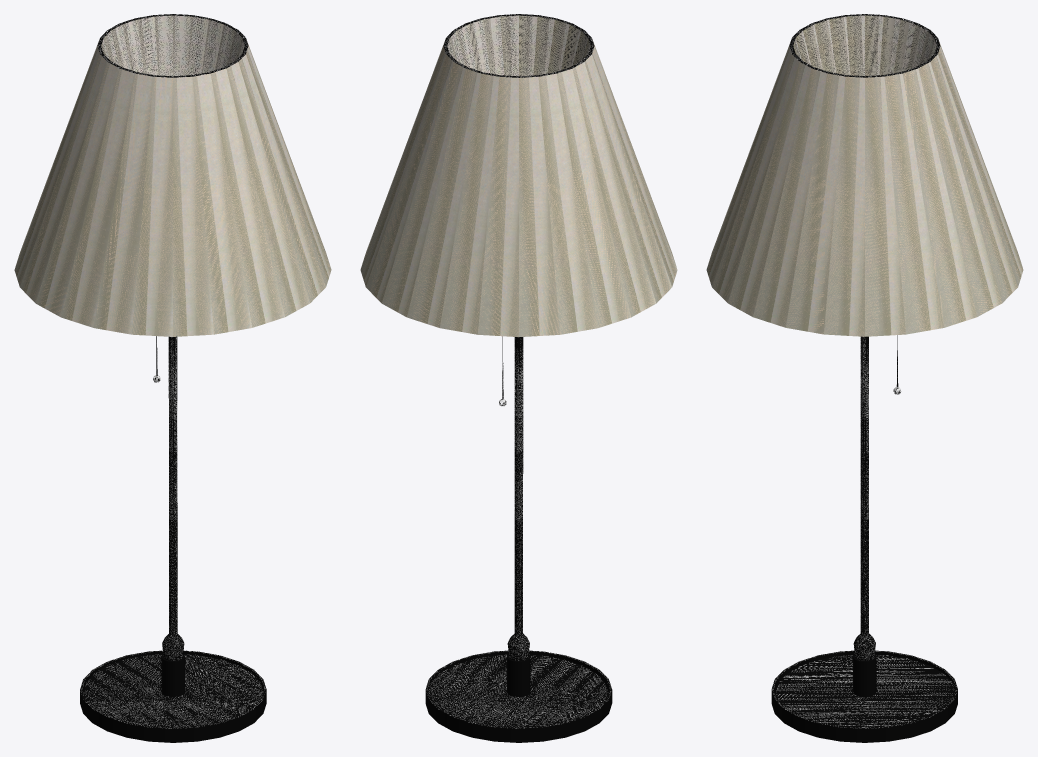
Rendered from Lampe_Arstid.dae.
3 views of the same model, side by side, from view 1: azimuth 30°, elevation 25°; view 2: azimuth 150°, elevation 25°; view 3: azimuth 270°, elevation 25° (orthographic).
Visible parts, largest first — view 1: SketchUp (×8); view 2: SketchUp (×8); view 3: SketchUp (×8).
Boxes of the visible parts, x1,y1,x2,y2 form: SketchUp (×8): [14, 14, 331, 742]; SketchUp (×8): [360, 14, 677, 742]; SketchUp (×8): [706, 14, 1023, 742].
Size of the model in its own units: 0.2393 by 0.2393 by 0.5477.
6 materials, 1 textured.
